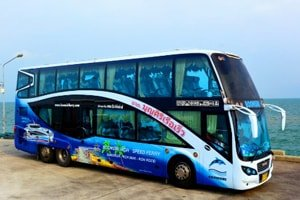bus: (13, 49, 274, 191)
